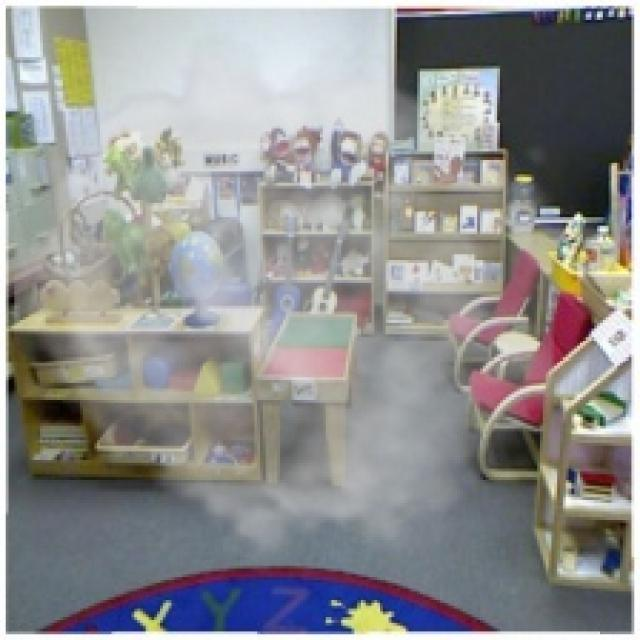smoke: (14, 32, 554, 574)
